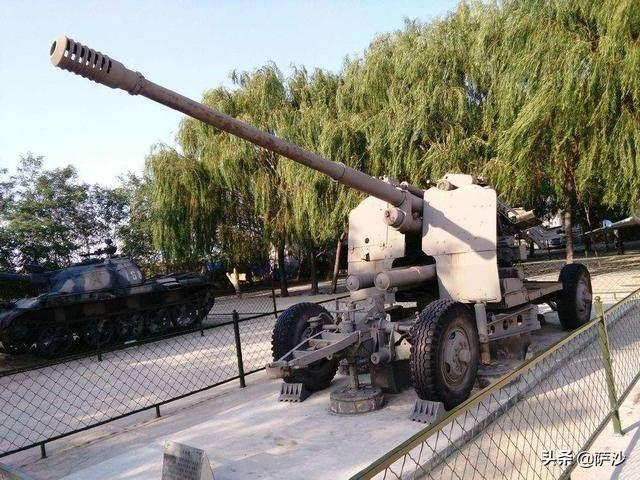MIL_SPG: (51, 38, 591, 408), (0, 256, 215, 356)
